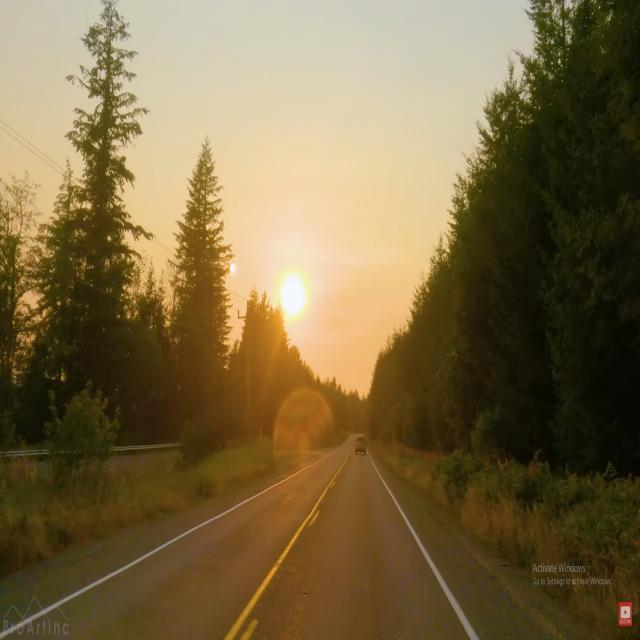sun: (276, 261, 310, 325)
